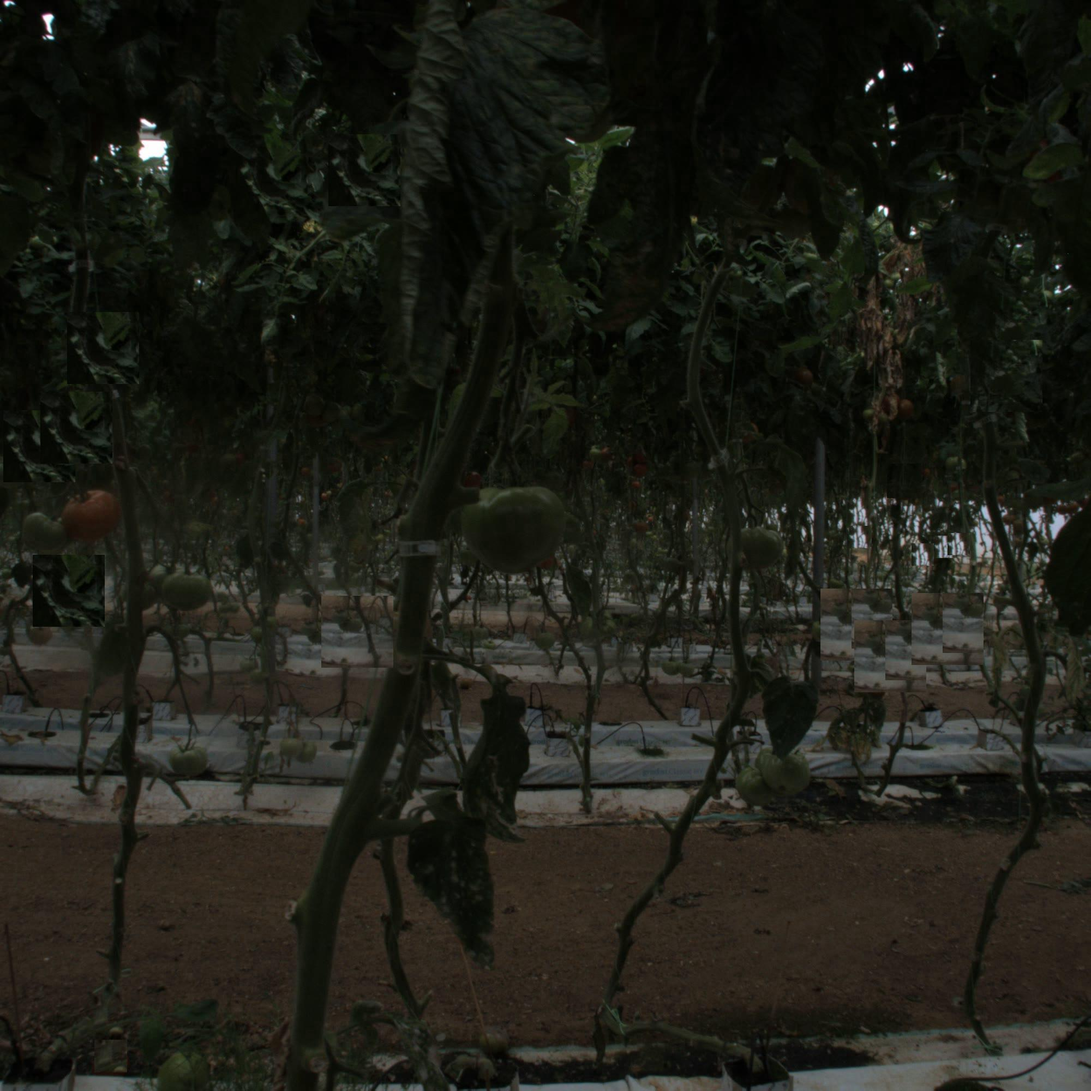['unripe', 'semi-ripe', 'fully-ripe']: (463, 470, 563, 570), (755, 741, 812, 798), (735, 520, 783, 568), (163, 566, 208, 611), (736, 762, 781, 806), (21, 513, 65, 558), (169, 738, 209, 778)
